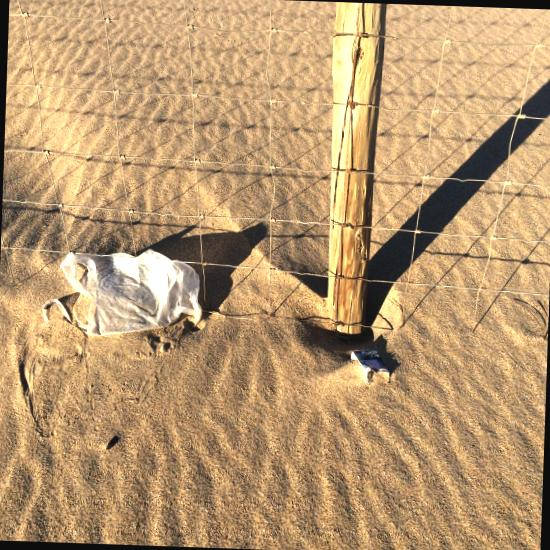Other carton: (351, 347, 390, 386)
Single-use carrier bag: (43, 249, 202, 336)
